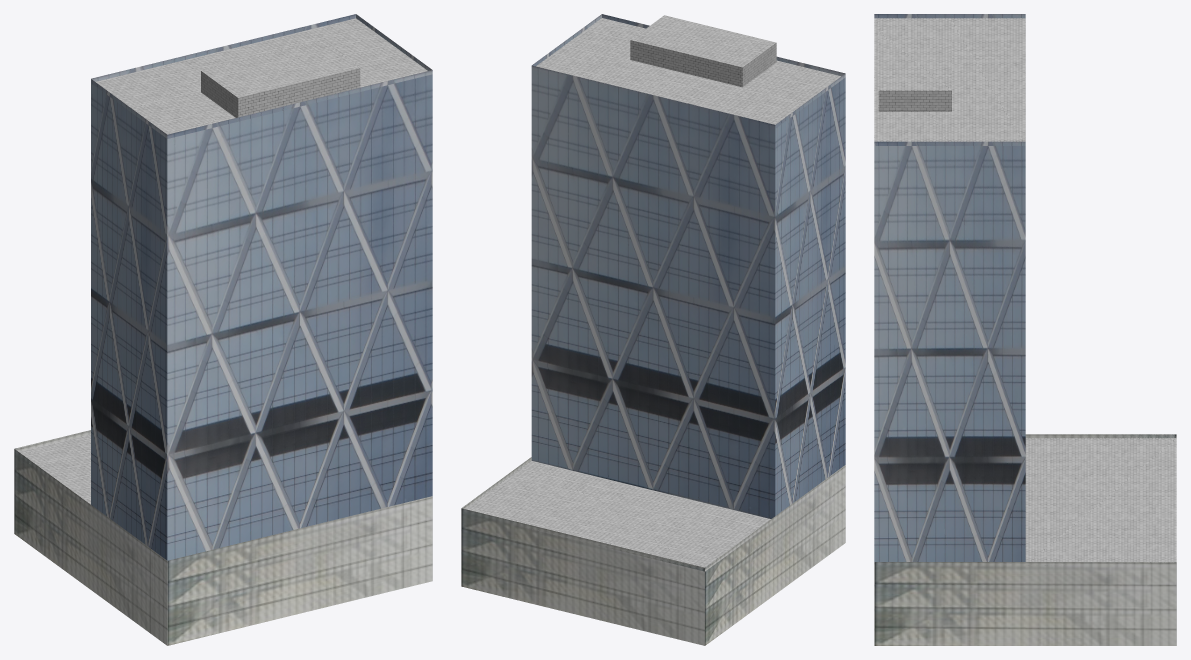
3 views of the same model, side by side, from view 1: azimuth 30°, elevation 25°; view 2: azimuth 150°, elevation 25°; view 3: azimuth 270°, elevation 25° (orthographic). The views are drawn at different scales.
Parts seen in each view (by area): view 1: Object_7, Object_1, Object_3, Object_2, Object_4, Object_5; view 2: Object_7, Object_1, Object_5, Object_3, Object_2, Object_6; view 3: Object_7, Object_1, Object_5, Object_3, Object_2, Object_4.
Part boxes in pixels (x1=…): Object_7: x1=91, y1=14, x2=432, y2=560; Object_1: x1=14, y1=430, x2=432, y2=645; Object_3: x1=96, y1=18, x2=427, y2=134; Object_2: x1=201, y1=41, x2=360, y2=117; Object_4: x1=91, y1=14, x2=432, y2=138; Object_5: x1=19, y1=434, x2=90, y2=504; Object_7: x1=531, y1=14, x2=845, y2=518; Object_1: x1=461, y1=457, x2=845, y2=645; Object_5: x1=465, y1=461, x2=770, y2=567; Object_3: x1=536, y1=18, x2=840, y2=124; Object_2: x1=630, y1=15, x2=776, y2=87; Object_6: x1=464, y1=457, x2=775, y2=571; Object_7: x1=874, y1=14, x2=1025, y2=561; Object_1: x1=874, y1=434, x2=1176, y2=645; Object_5: x1=1025, y1=438, x2=1176, y2=561; Object_3: x1=874, y1=18, x2=1025, y2=141; Object_2: x1=878, y1=32, x2=951, y2=111; Object_4: x1=874, y1=141, x2=1025, y2=145.
Bounding box in the file's own units: 1283 × 1283 × 2442.
Materials: 7 (7 with a texture image).
